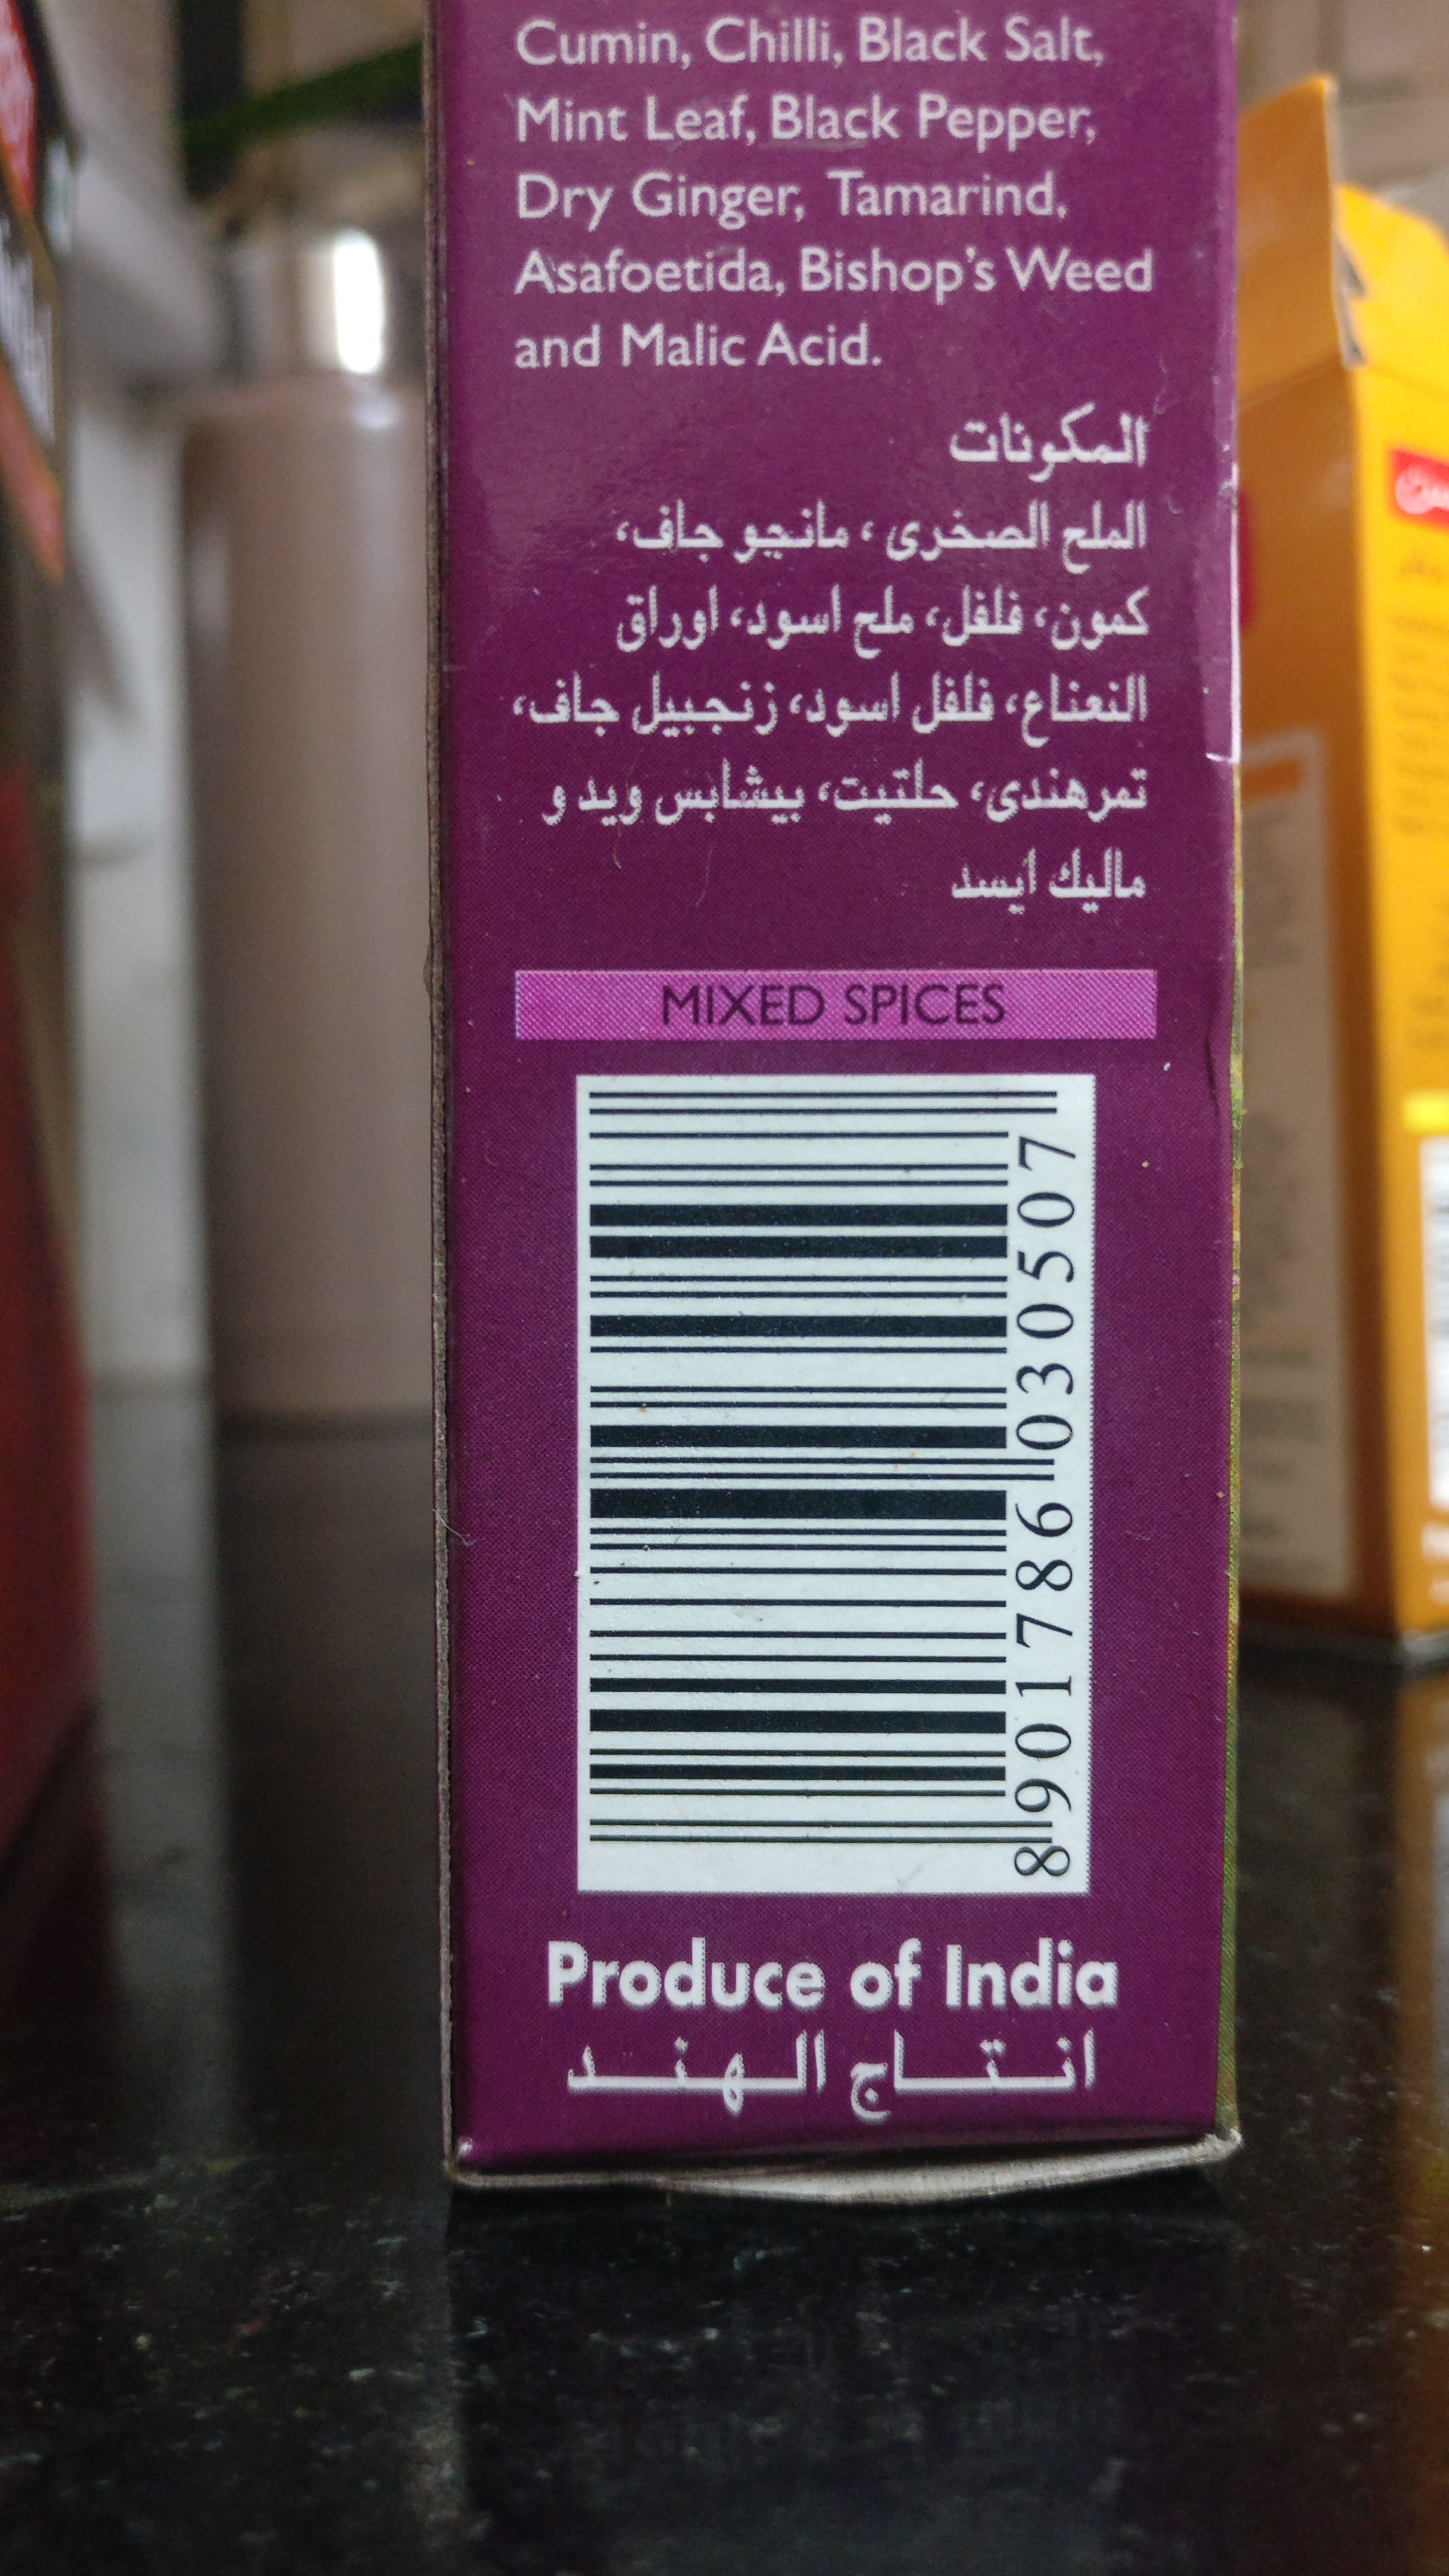barcode: (575, 1074, 1100, 1898)
